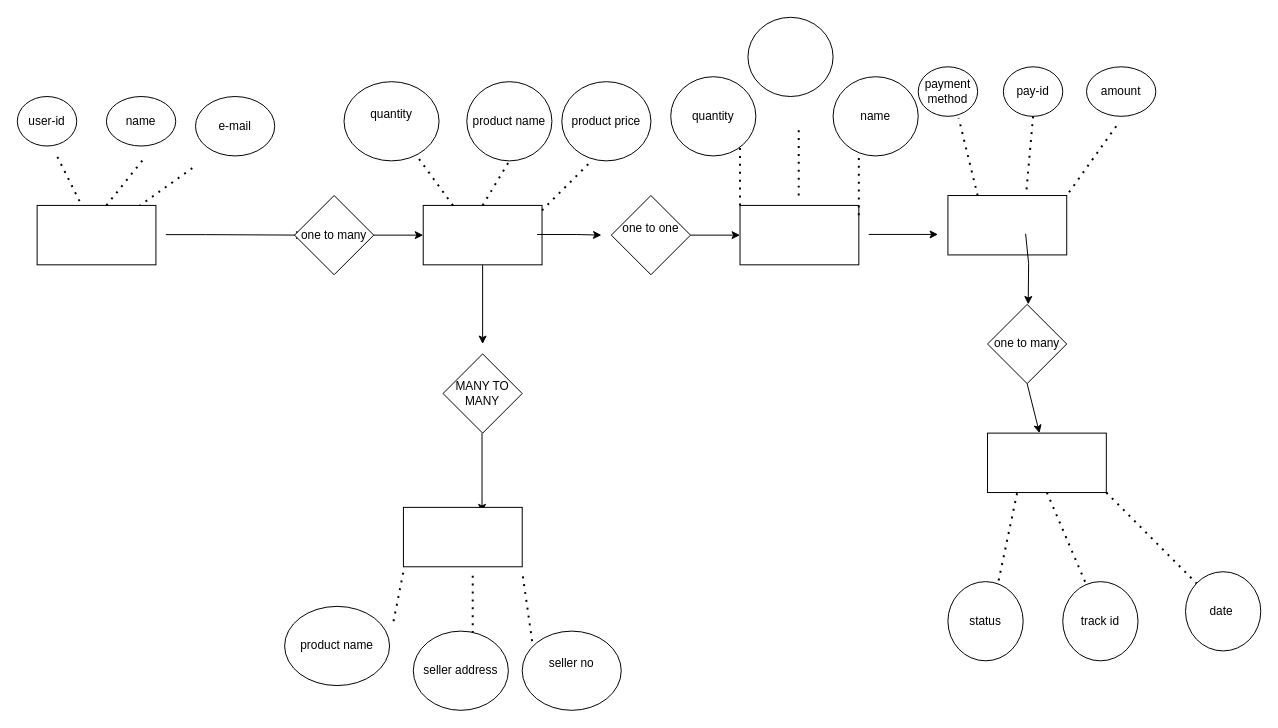
Image size: 1278x728. Some labels were removed from this diagram. Here are the shapes that lost their labels. From the top down, the centre of each, then its label:
[790,56]: order id
[96,234]: user
[482,234]: product list
[799,234]: order
[1007,225]: payment
[1046,462]: tracking order
[462,536]: SELLER
